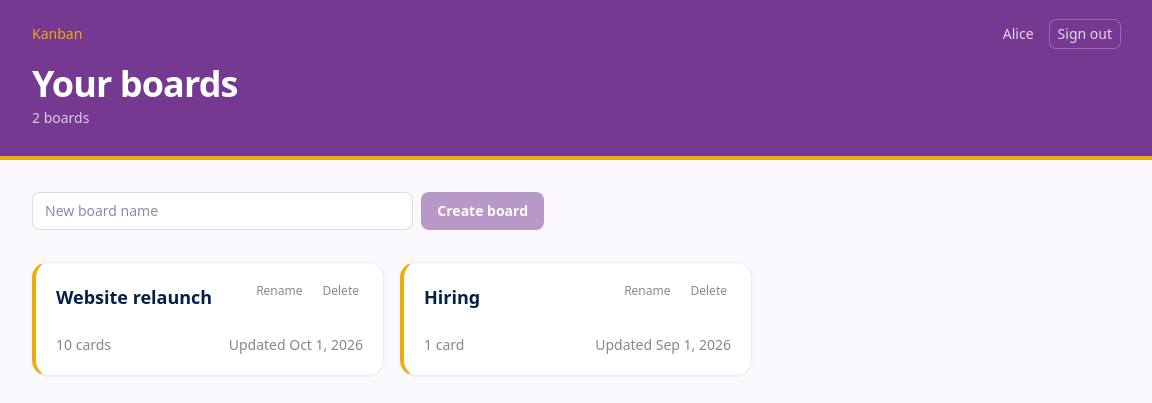
Test: BoardList › renames a board
Click the button with aria-label "Rename Hiring" at [647, 291], box [616,279,678,303]
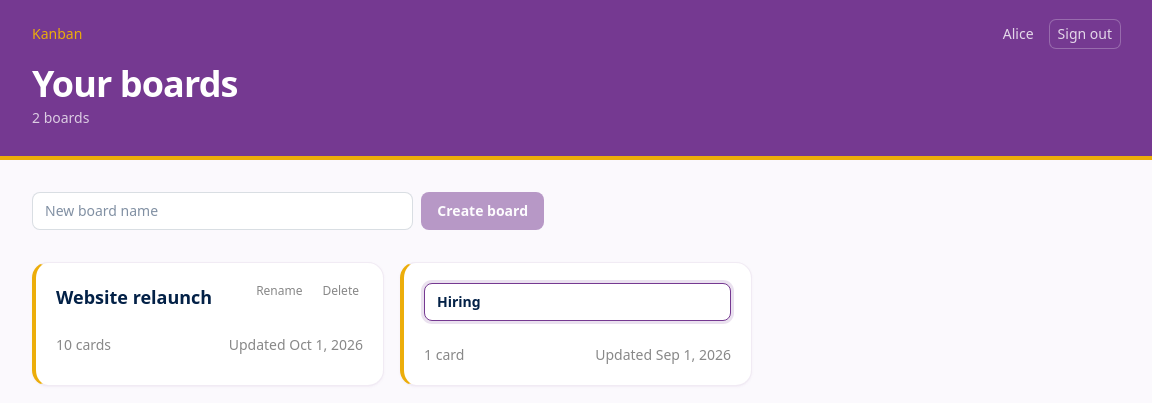
Replace the text in the field named "Board name" with "Recruiting" at [578, 302], box [424,283,731,321]
Then press Enter
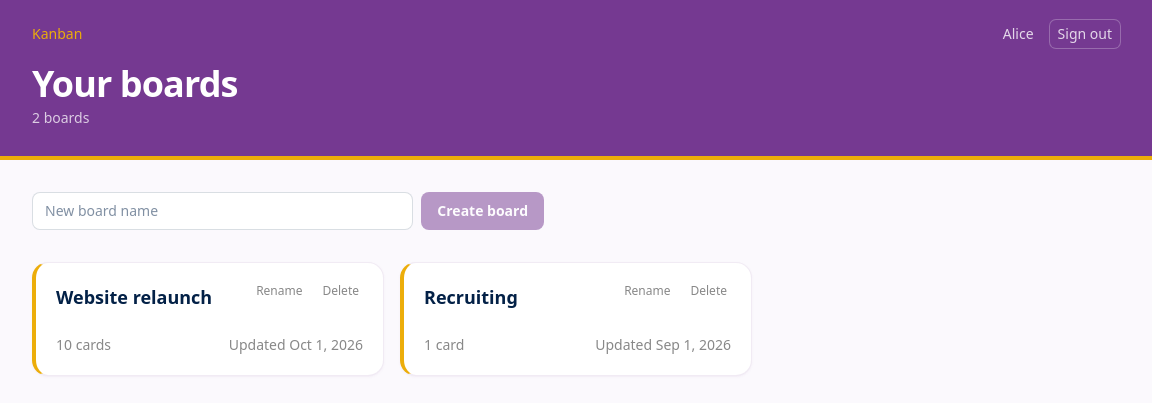
Result: the link "Recruiting" is shown at [424,285,518,309]
